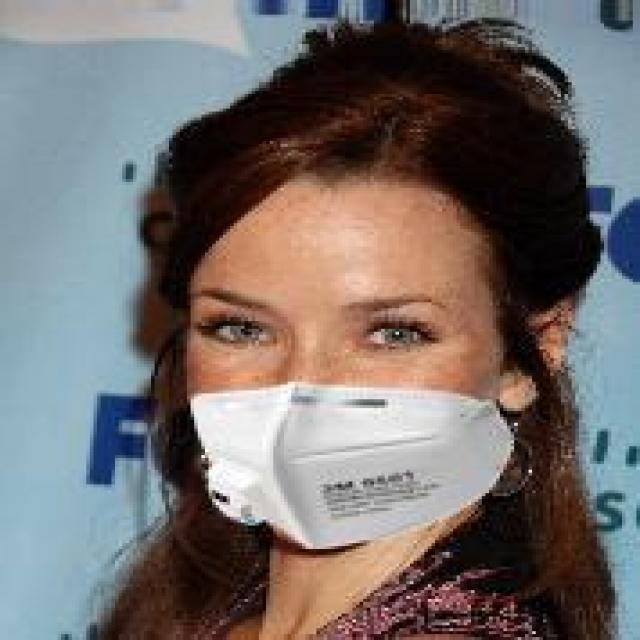mask: (154, 67, 640, 557)
